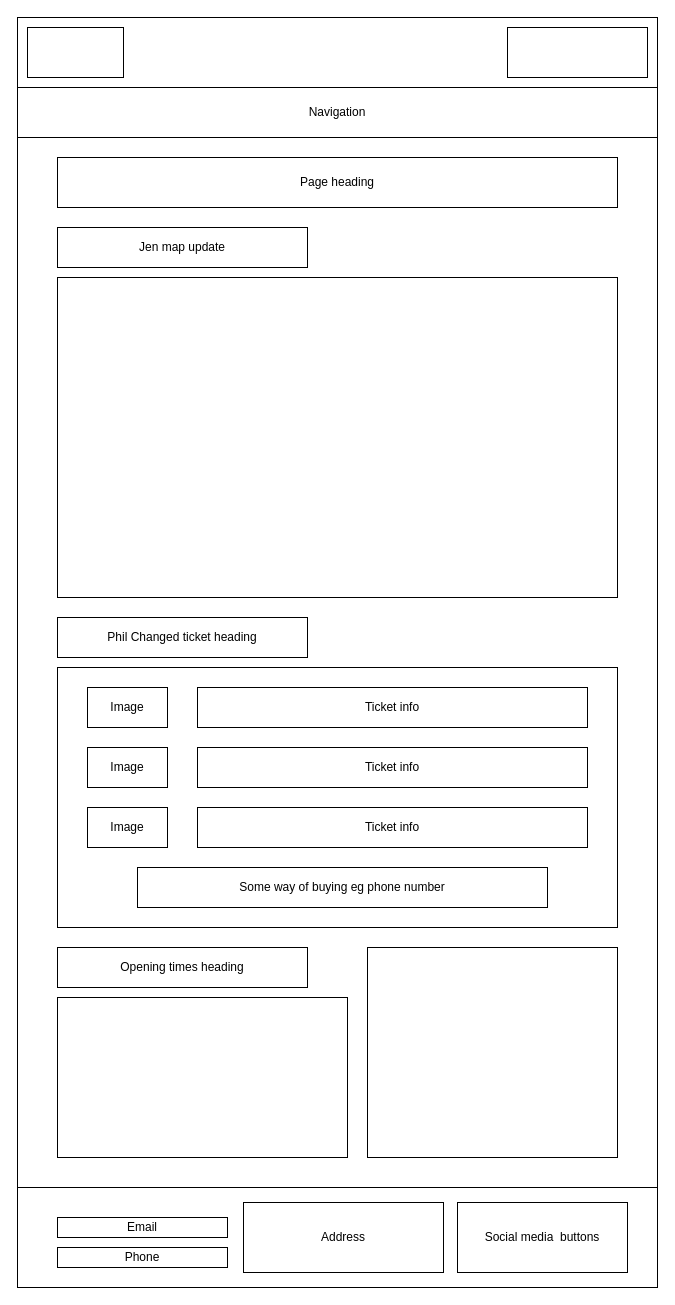
The diagram is 675 pixels wide and 1305 high, and some of its shapes have lost their labels. Each missing label, with the centre of its shape:
Buy tickets button: (577,52)
Jen Map with links: (337,437)
Logo: (75,52)
Opening times table: (202,1077)
Promo image/link?: (492,1052)
